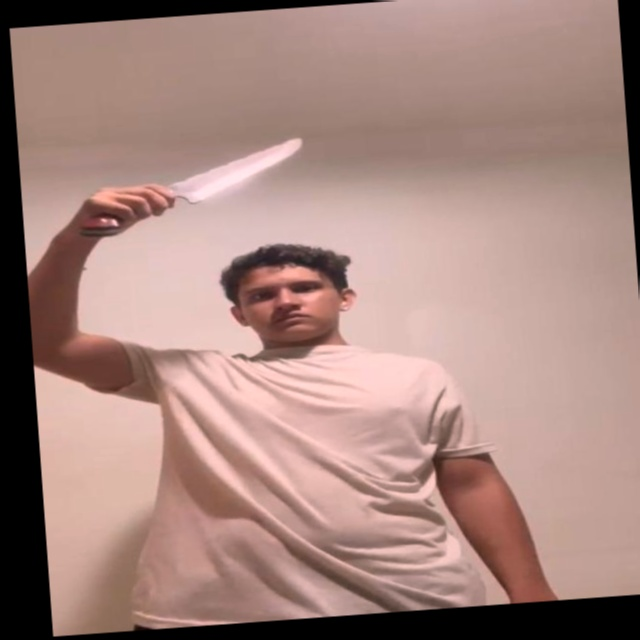Sharp-Object: (174, 136, 302, 204)
